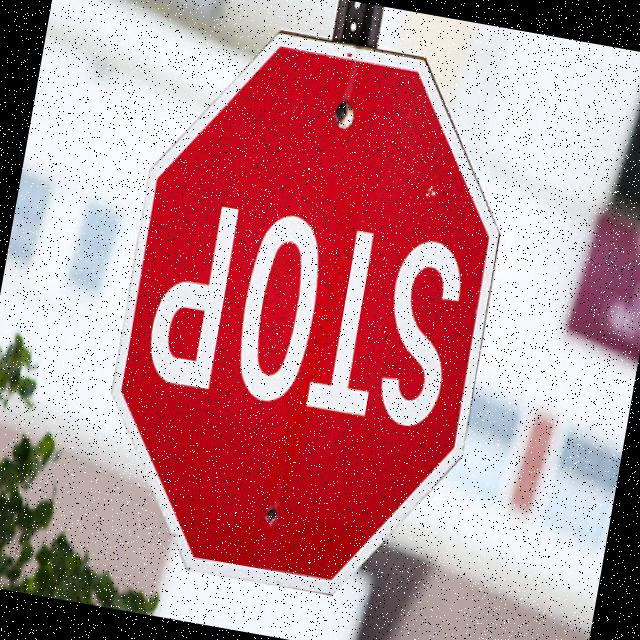stop: (73, 3, 541, 625)
